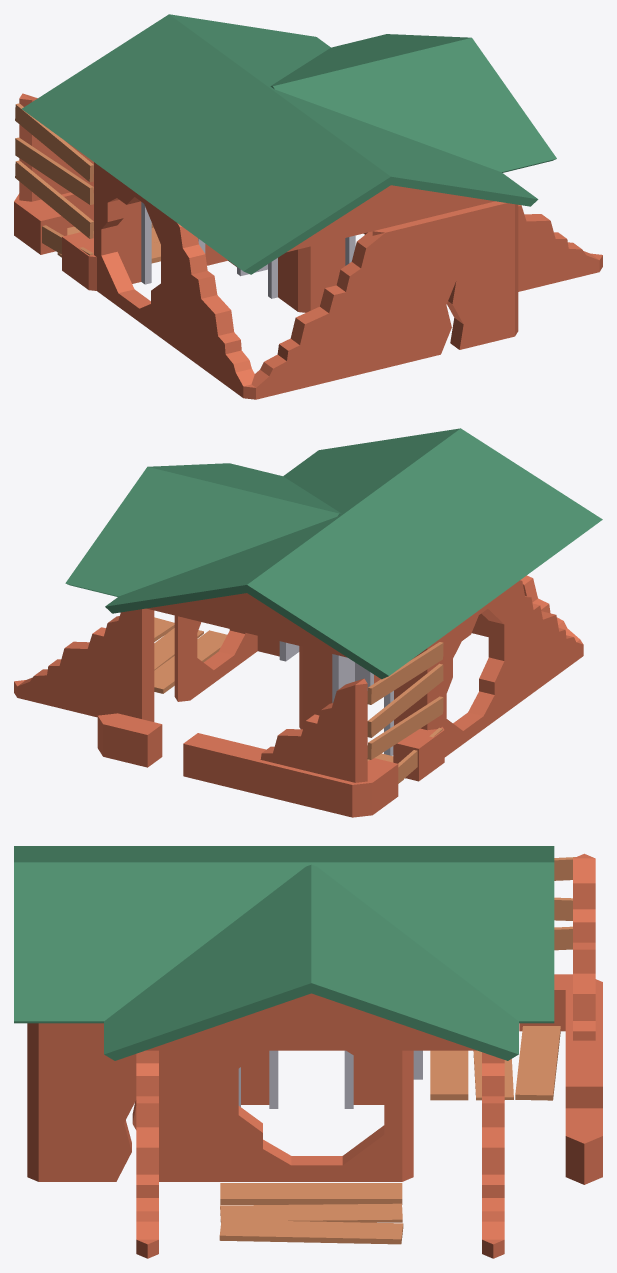
File: Casa5SemiRota.FBX
3 views of the same model, one above another, from view 1: azimuth 30°, elevation 25°; view 2: azimuth 150°, elevation 25°; view 3: azimuth 270°, elevation 25° (orthographic). The views are drawn at different scales.
Parts seen in each view (by area): view 1: wall_straightCrack_87; view 2: wall_straightCrack_87; view 3: wall_straightCrack_87.
Part boxes in pixels (box(x1,y1,x2,y2)): wall_straightCrack_87: box(14, 14, 602, 399); wall_straightCrack_87: box(14, 428, 602, 817); wall_straightCrack_87: box(14, 846, 602, 1258).
Bounding box in the file's own units: 3203 × 1443 × 3238.
